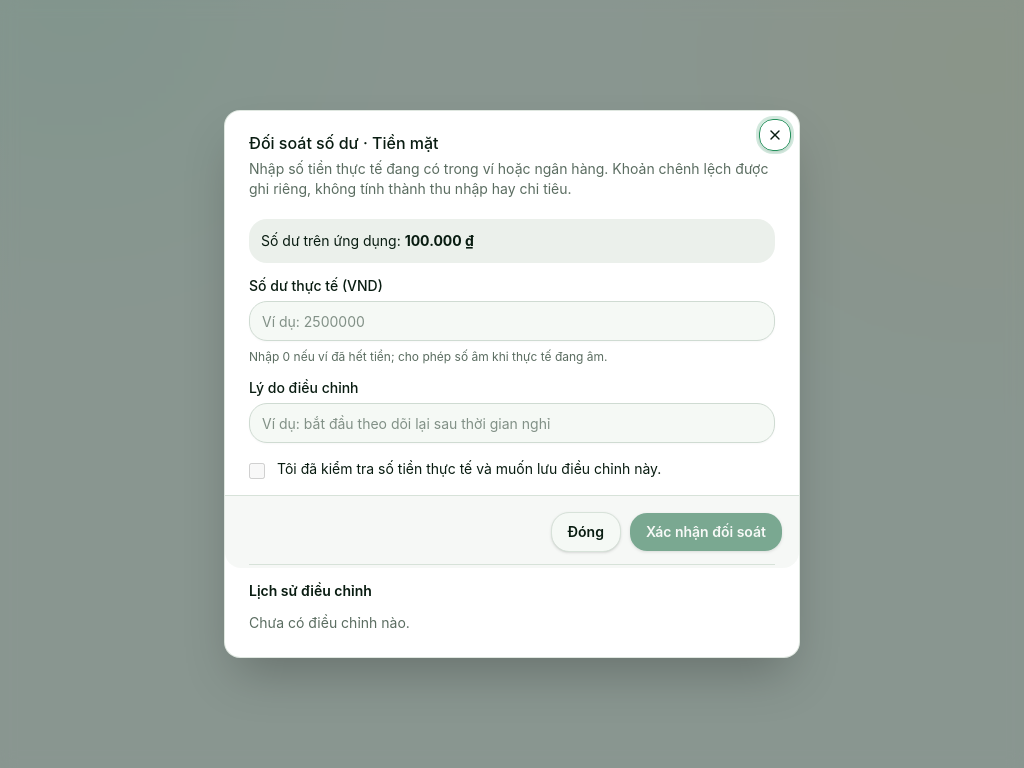
Test: balance reconciliation › retains entered values after conflict and requires confirmation again
Type "250000" into the number field labelled "Số dư thực tế (VND)" at (512, 321), box [249,301,775,341]
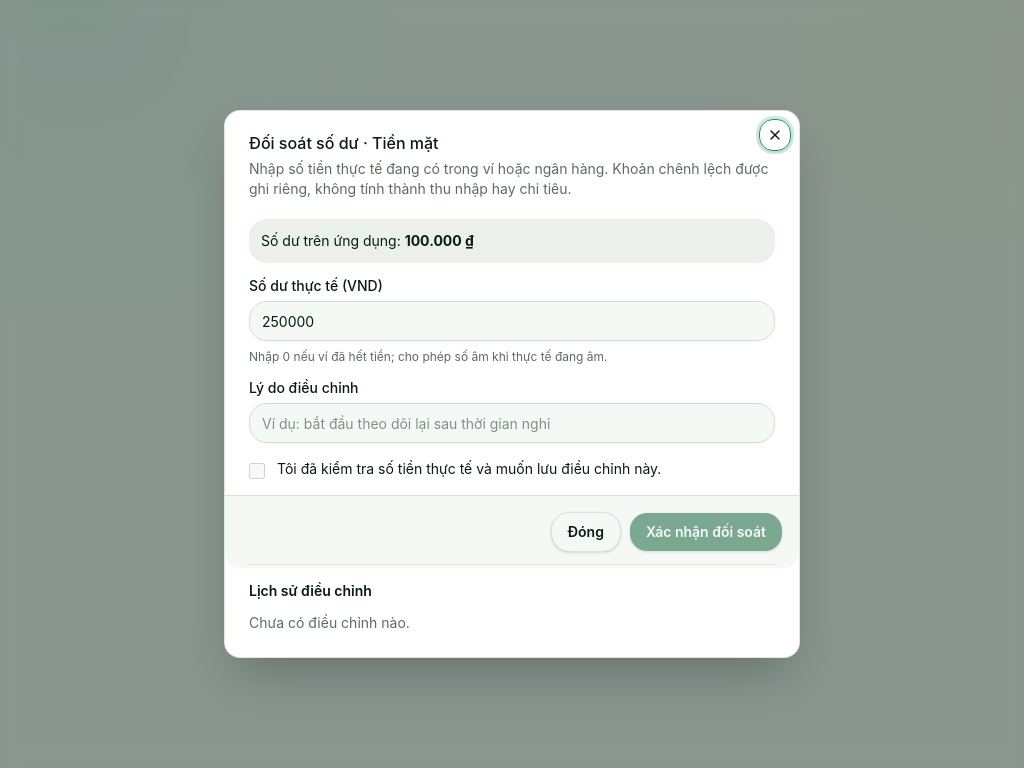
Type "Đối soát" into the field labelled "Lý do điều chỉnh" at (512, 423), box [249,403,775,443]
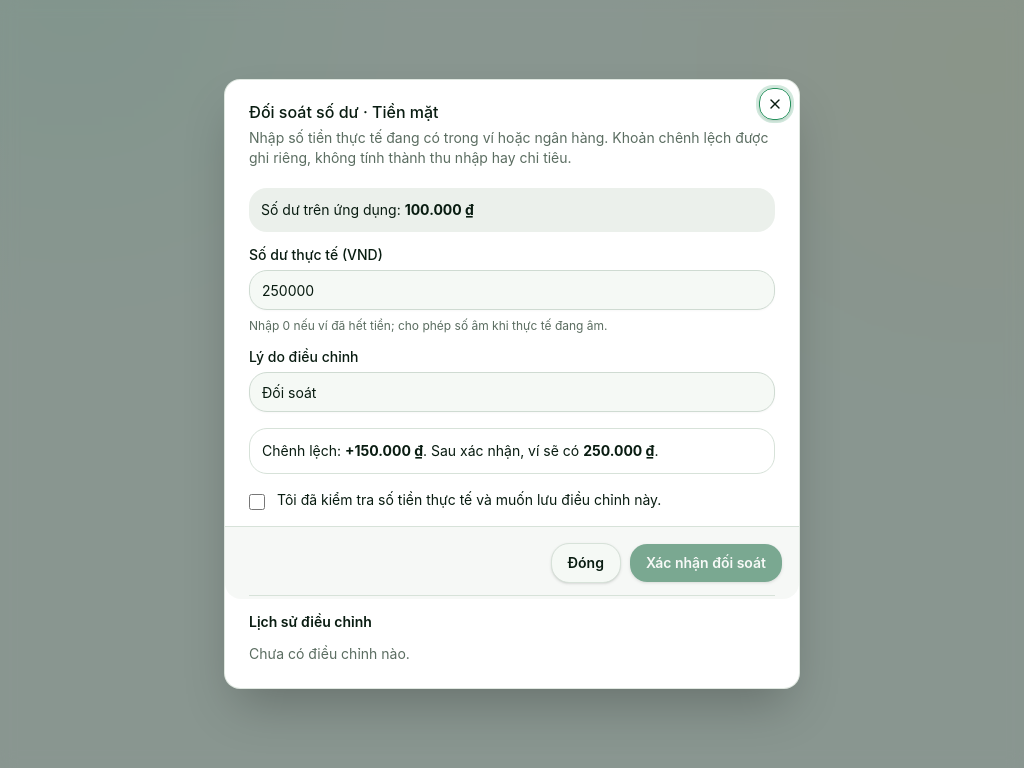
Click the checkbox at (257, 502), box [249,494,265,510]
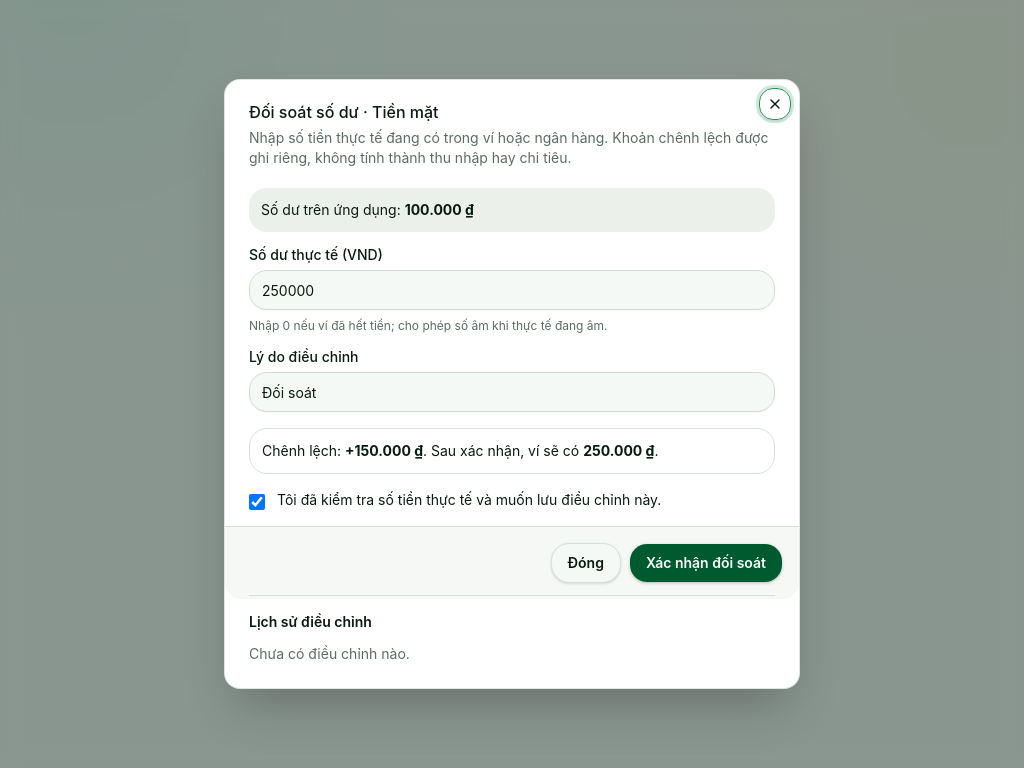
Click the button "Xác nhận đối soát" at (706, 563), box [629,543,783,583]
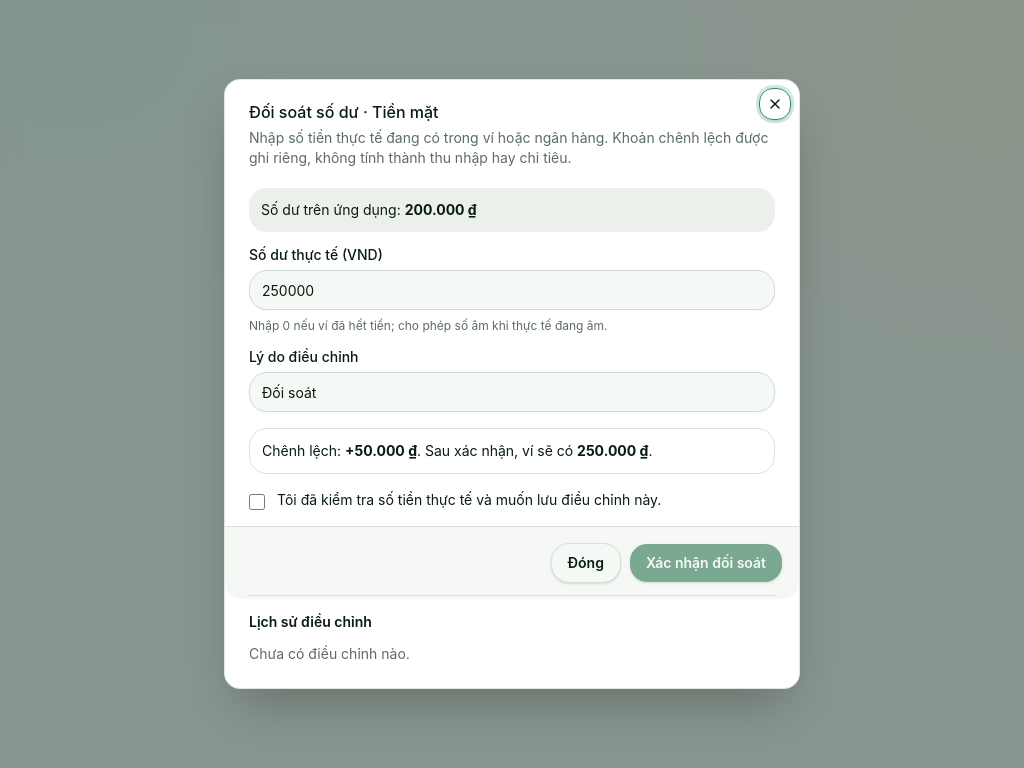
Expected: the checkbox is not checked, [249,494,265,510]
Expected: the button "Xác nhận đối soát" is disabled, [629,543,783,583]
